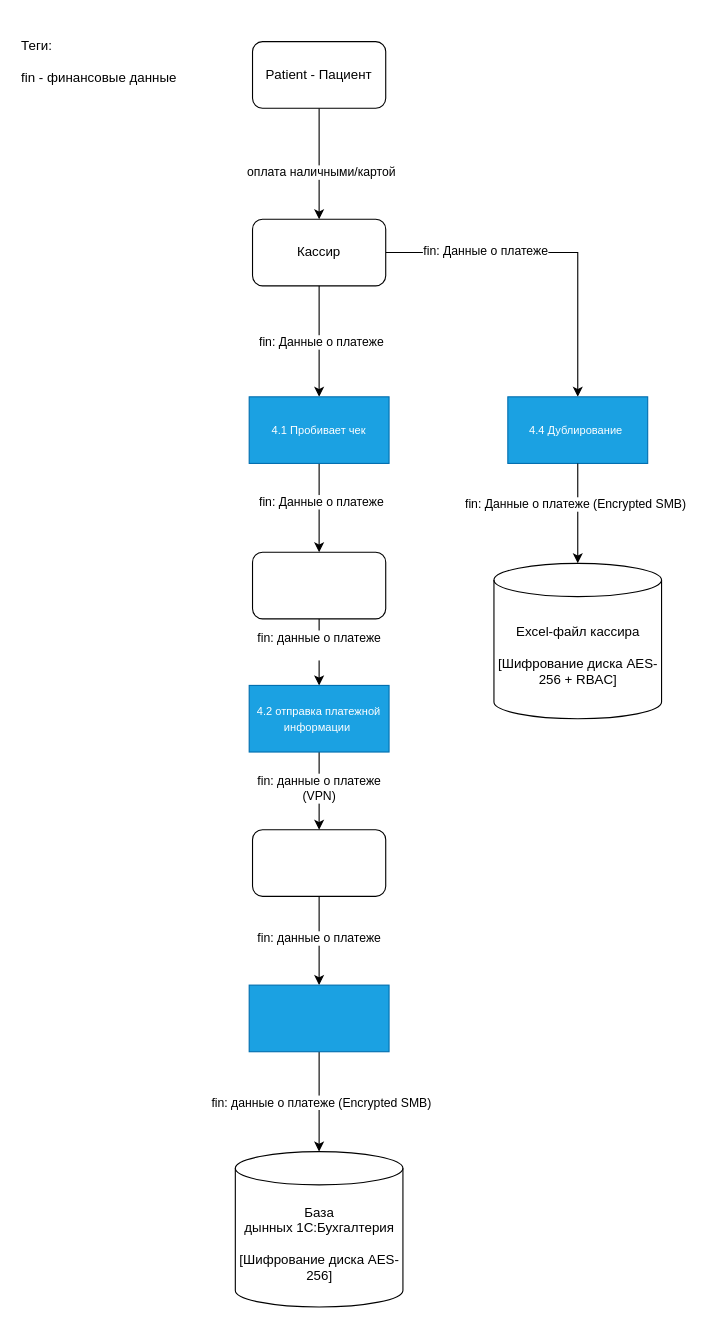
Image size: 705x1326. Some labels were removed from this diagram. The centre of each missing label's shape, as x and y in pixels:
"1С:Бухгалтерия" belongs at (318,862).
"4.3 сохранение платежной информации" belongs at (318,1018).
"ККМ" belongs at (318,585).
